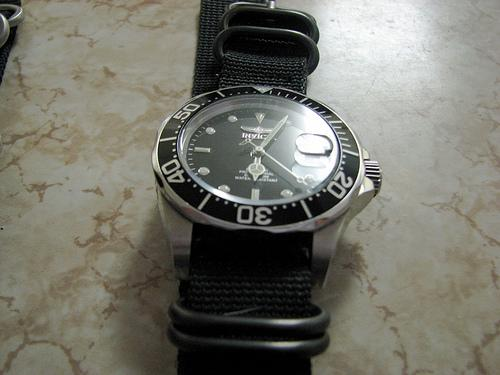watch: (153, 0, 383, 375)
